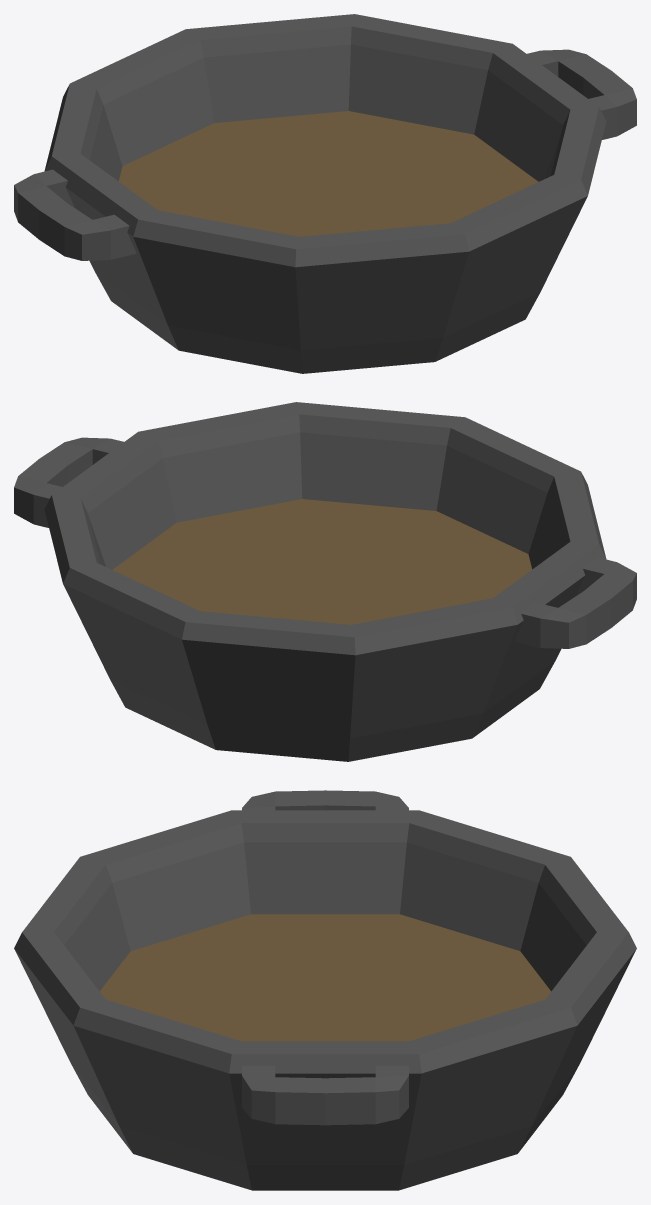
File: cookingpot2_soup.glb
3 renders of one model, top to bottom at view 1: azimuth 30°, elevation 25°; view 2: azimuth 150°, elevation 25°; view 3: azimuth 270°, elevation 25°, orthographic. The views are drawn at different scales.
Visible parts, largest first — view 1: CookingPot2_Soup; view 2: CookingPot2_Soup; view 3: CookingPot2_Soup.
Part boxes in pixels (x1,y1,x2,y2): CookingPot2_Soup: [14, 14, 636, 373]; CookingPot2_Soup: [14, 402, 636, 761]; CookingPot2_Soup: [14, 790, 636, 1190].
Size of the model in its own units: 2.29 by 0.6224 by 1.99.
